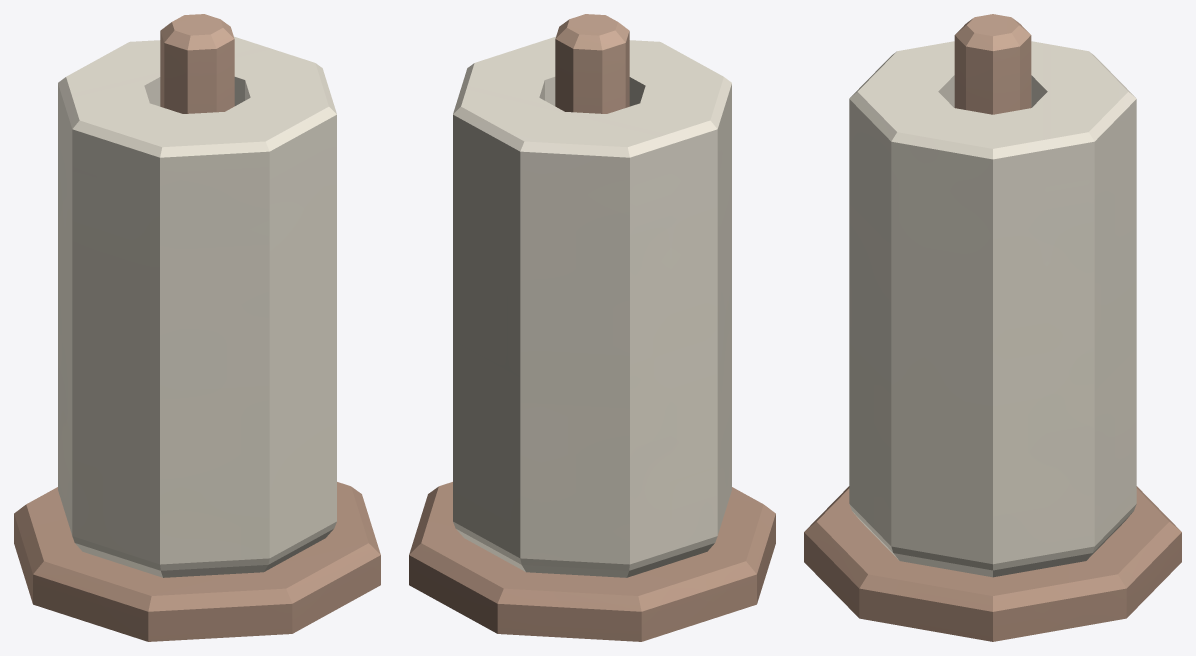
File: paper-towel1.glb
3 renders of one model, left to right at view 1: azimuth 30°, elevation 25°; view 2: azimuth 150°, elevation 25°; view 3: azimuth 270°, elevation 25°, orthographic.
Parts seen in each view (by area): view 1: PaperTowel1.001; view 2: PaperTowel1.001; view 3: PaperTowel1.001.
Part boxes in pixels (<box>): PaperTowel1.001: <box>14,14,380,641</box>; PaperTowel1.001: <box>409,14,775,641</box>; PaperTowel1.001: <box>804,14,1181,641</box>.
Bounding box in the file's own units: 0.2 × 0.3136 × 0.2.
Materials: 1 (1 with a texture image).
